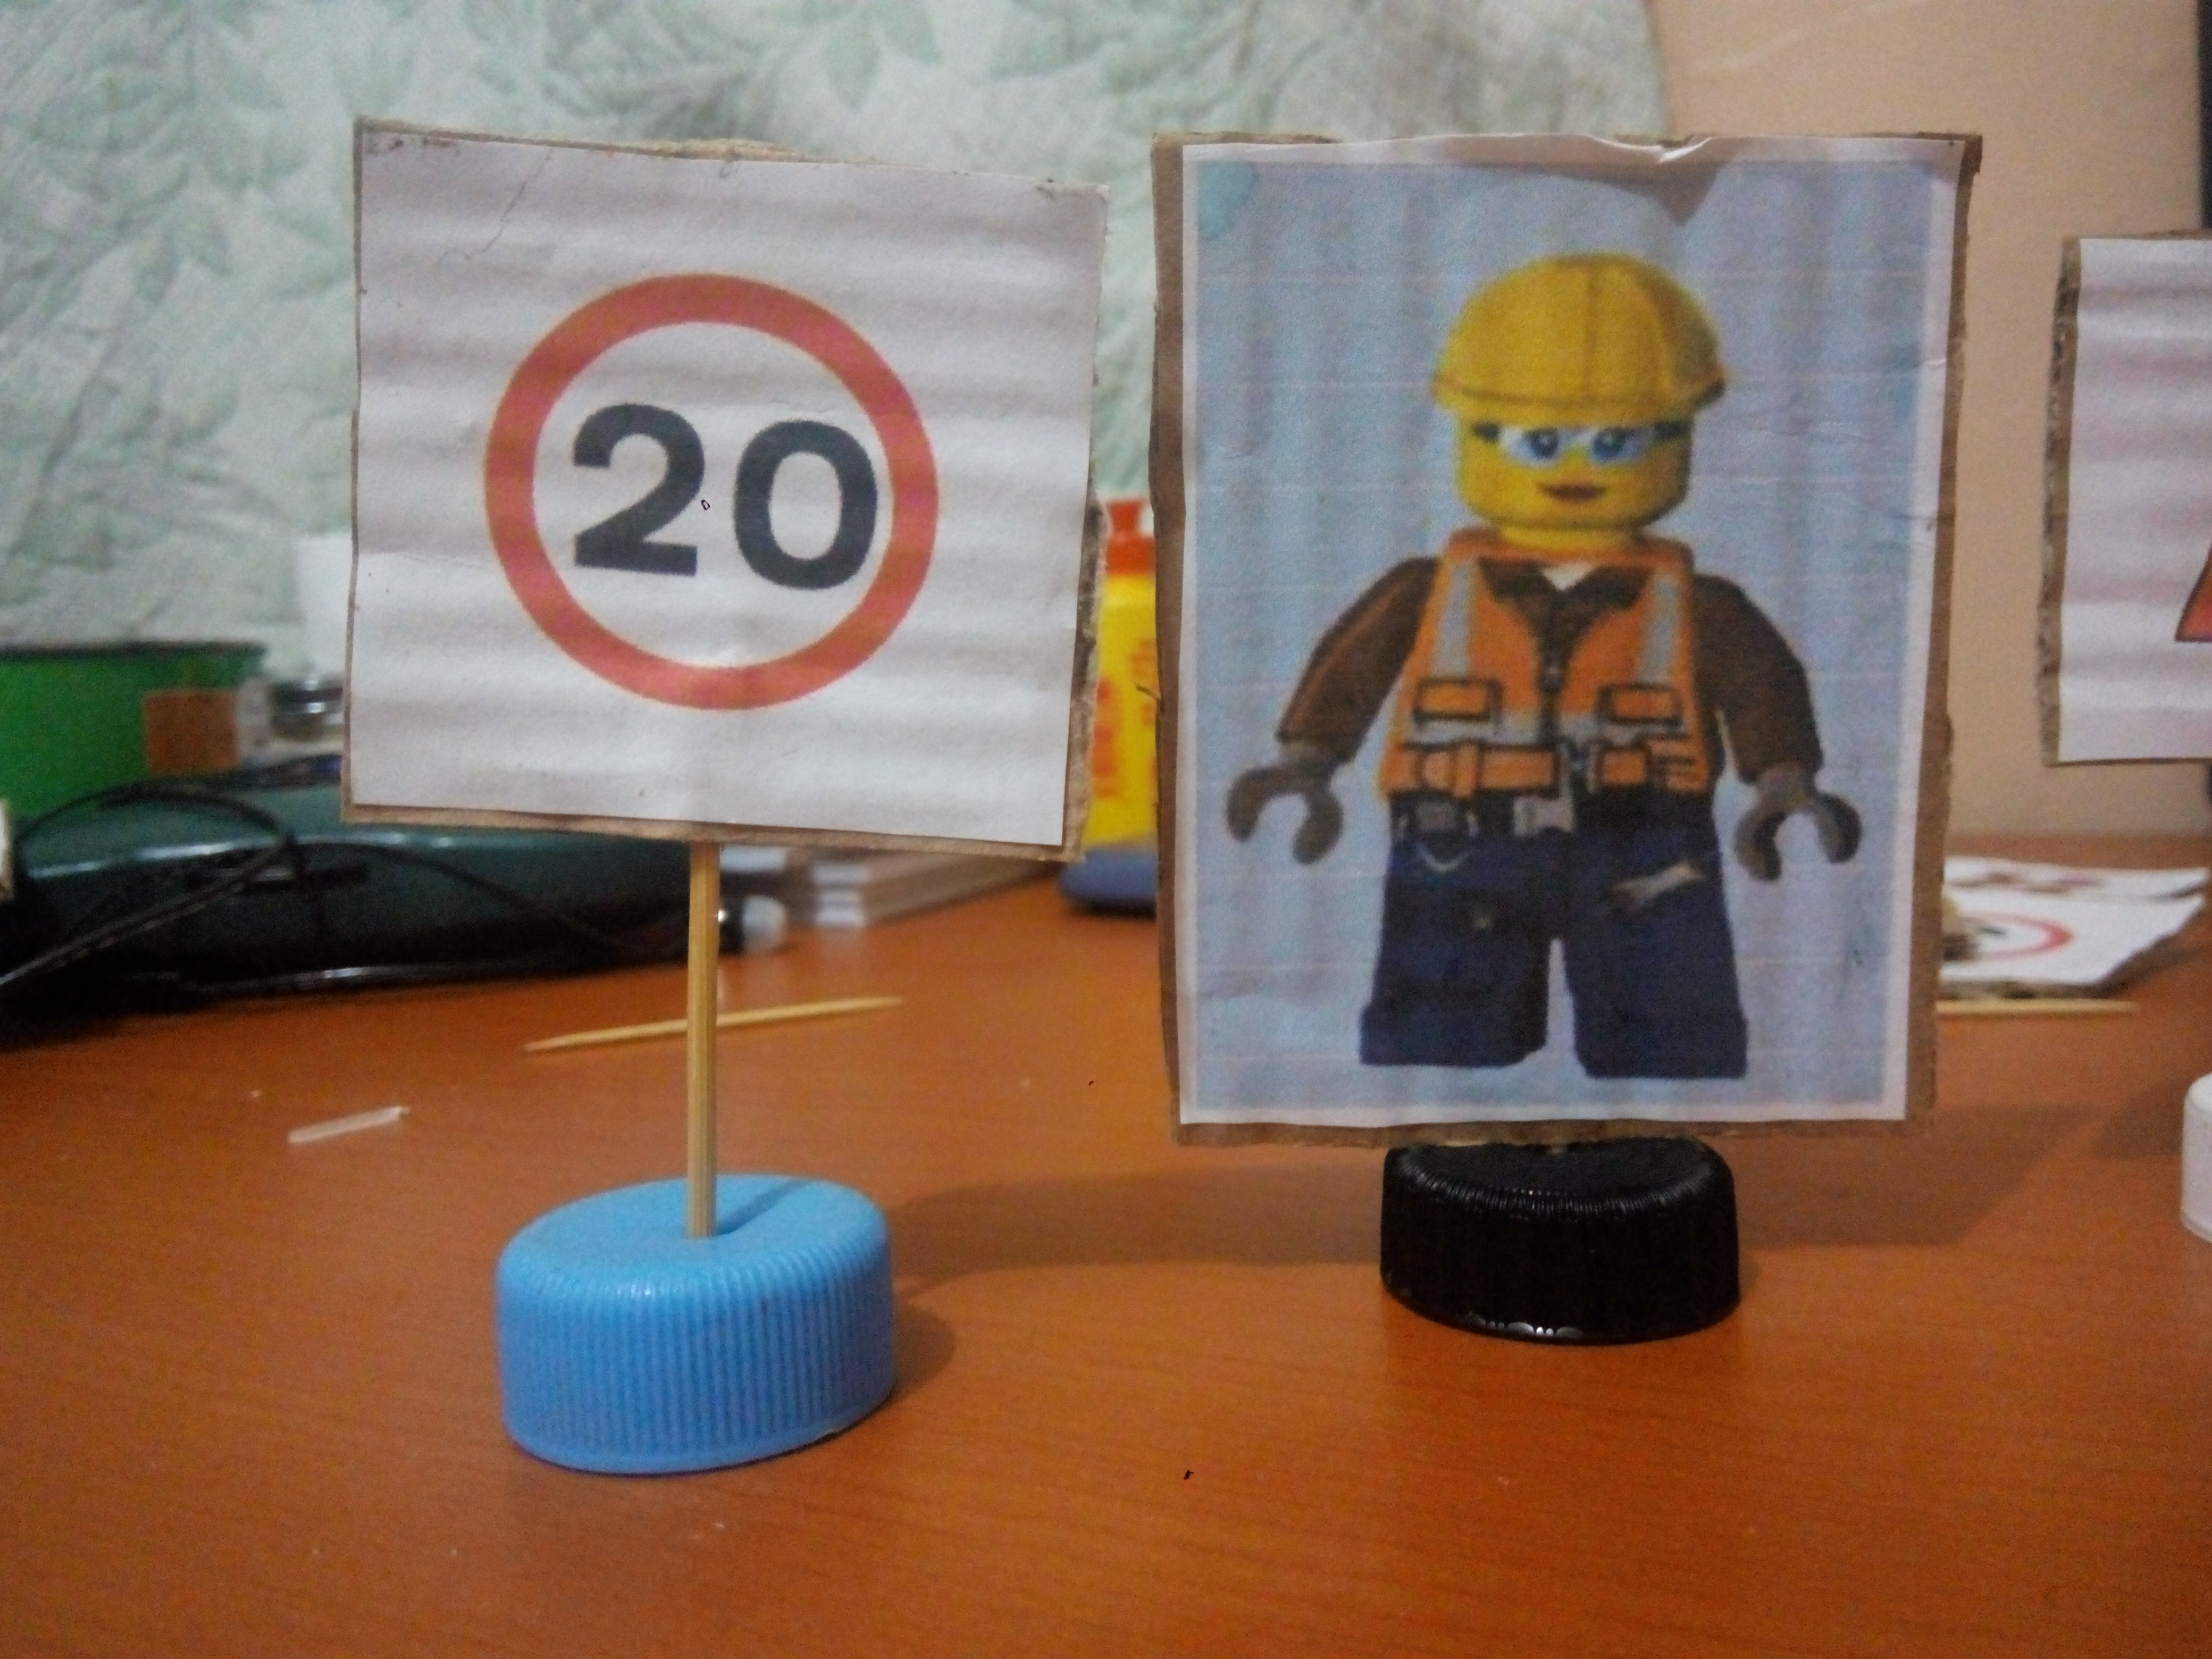20kph: (441, 209, 981, 768)
pedestrian: (1203, 211, 1882, 1105)
